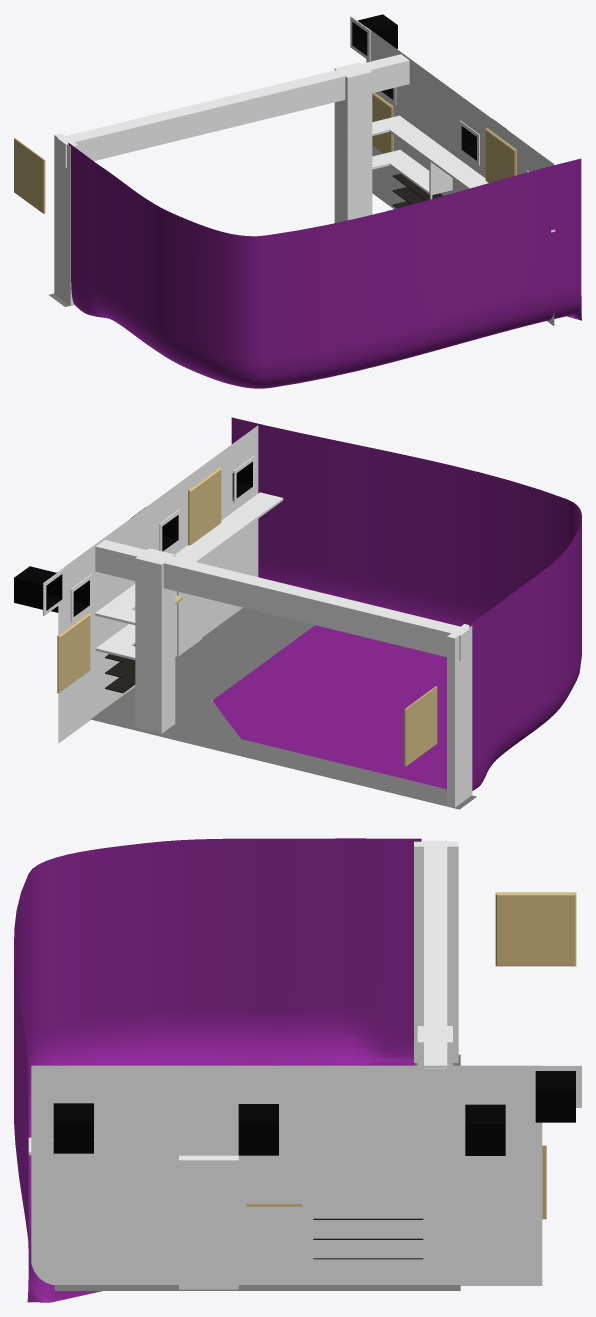
Rendered from main_room_no_wall.FBX.
3 renders of one model, top to bottom at view 1: azimuth 30°, elevation 25°; view 2: azimuth 150°, elevation 25°; view 3: azimuth 270°, elevation 25°, orthographic. The views are drawn at different scales.
Parts seen in each view (by area): view 1: Walls, Ceiling_Column_Horizontal, Wall_East, Pillar, DividingPillar, ShelfHoriz_2_2, AcousticPad_West, AcousticPad_SouthEast, Hole_007, ShelfHoriz_1_2, AcousticPad_NorthEast, ShelfVert; view 2: Walls, Wall_East, Ceiling_Column_Horizontal, Floor_Foyeur, Pillar, Floor_Divider, DividingPillar, ShelfHoriz_2_2, AcousticPad_West, AcousticPad_NorthEast, AcousticPad_SouthEast, Hole_007 (+3 smaller); view 3: Wall_East, Walls, Door, Ceiling_Column_Horizontal, AcousticPad_West, DividingPillar, Floor_Foyeur, Hole_005, Hole_006, Hole_007, Hole_4.
Part boxes in pixels (x1=…): Walls: x1=68, y1=143, x2=581, y2=388; Ceiling_Column_Horizontal: x1=57, y1=54, x2=409, y2=167; Wall_East: x1=366, y1=27, x2=554, y2=325; Pillar: x1=334, y1=62, x2=372, y2=222; DividingPillar: x1=54, y1=133, x2=77, y2=305; ShelfHoriz_2_2: x1=378, y1=115, x2=555, y2=232; AcousticPad_West: x1=14, y1=138, x2=45, y2=213; AcousticPad_SouthEast: x1=485, y1=128, x2=516, y2=182; Hole_007: x1=352, y1=14, x2=397, y2=55; ShelfHoriz_1_2: x1=378, y1=149, x2=429, y2=194; AcousticPad_NorthEast: x1=372, y1=92, x2=393, y2=153; ShelfVert: x1=429, y1=161, x2=452, y2=195; Walls: x1=213, y1=417, x2=581, y2=790; Wall_East: x1=58, y1=425, x2=258, y2=743; Ceiling_Column_Horizontal: x1=95, y1=540, x2=469, y2=660; Floor_Foyeur: x1=90, y1=607, x2=314, y2=736; Pillar: x1=135, y1=548, x2=175, y2=733; Floor_Divider: x1=162, y1=724, x2=476, y2=809; DividingPillar: x1=447, y1=624, x2=472, y2=807; ShelfHoriz_2_2: x1=95, y1=492, x2=283, y2=620; AcousticPad_West: x1=404, y1=686, x2=437, y2=766; AcousticPad_NorthEast: x1=57, y1=613, x2=90, y2=693; AcousticPad_SouthEast: x1=188, y1=467, x2=221, y2=545; Hole_007: x1=14, y1=566, x2=62, y2=610; Wall_East: x1=31, y1=1065, x2=542, y2=1285; Walls: x1=14, y1=838, x2=421, y2=1302; Door: x1=179, y1=1155, x2=238, y2=1289; Ceiling_Column_Horizontal: x1=424, y1=840, x2=447, y2=1100; AcousticPad_West: x1=495, y1=892, x2=576, y2=966; DividingPillar: x1=414, y1=841, x2=458, y2=1062; Floor_Foyeur: x1=54, y1=1285, x2=460, y2=1290; Hole_005: x1=238, y1=1104, x2=278, y2=1155; Hole_006: x1=465, y1=1104, x2=505, y2=1155; Hole_007: x1=535, y1=1071, x2=575, y2=1122; Hole_4: x1=53, y1=1103, x2=93, y2=1153.
Size of the model in its own units: 893 by 368 by 858.
